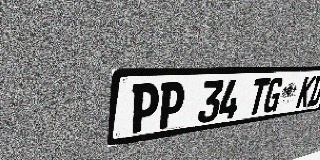3: (197, 80, 225, 124)
4: (217, 79, 244, 120)
D: (306, 75, 320, 107)
G: (261, 77, 285, 114)
K: (295, 76, 316, 108)
P: (128, 83, 161, 134), (156, 82, 187, 130)
T: (246, 78, 271, 116)
